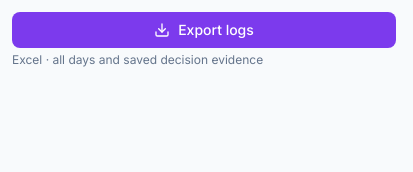
Test: Export logs › prevents duplicate jobs while queued
Click the button "Export logs": [204, 30] box x1=12 y1=12 x2=396 y2=48
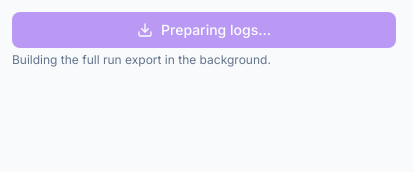
Now the button "Preparing logs…" is disabled, box x1=12 y1=12 x2=396 y2=48
